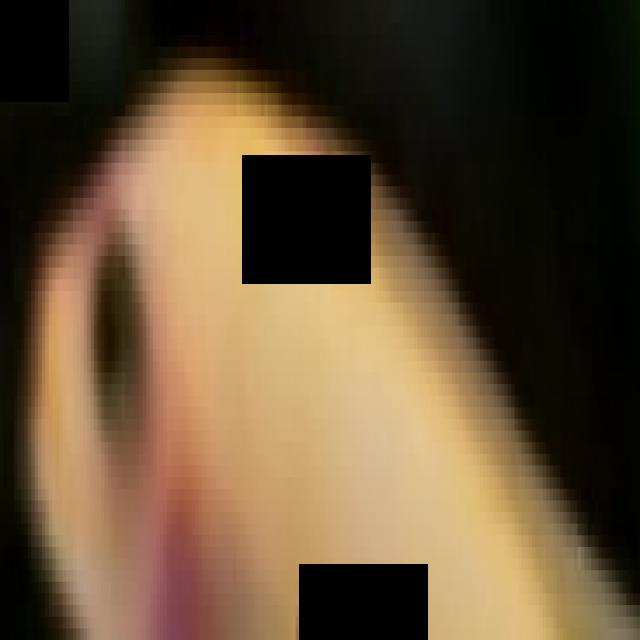fish: (3, 11, 639, 640)
